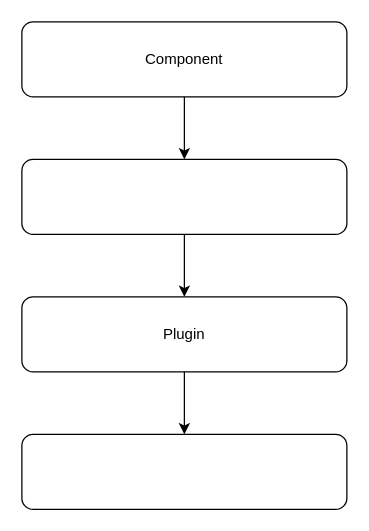
This 369x531 diagram has some shape labels left out. Here are the shapes that lost their labels. From the top down, the box of each, then its label:
(21, 158, 347, 234): Module
(21, 433, 347, 509): Agent
